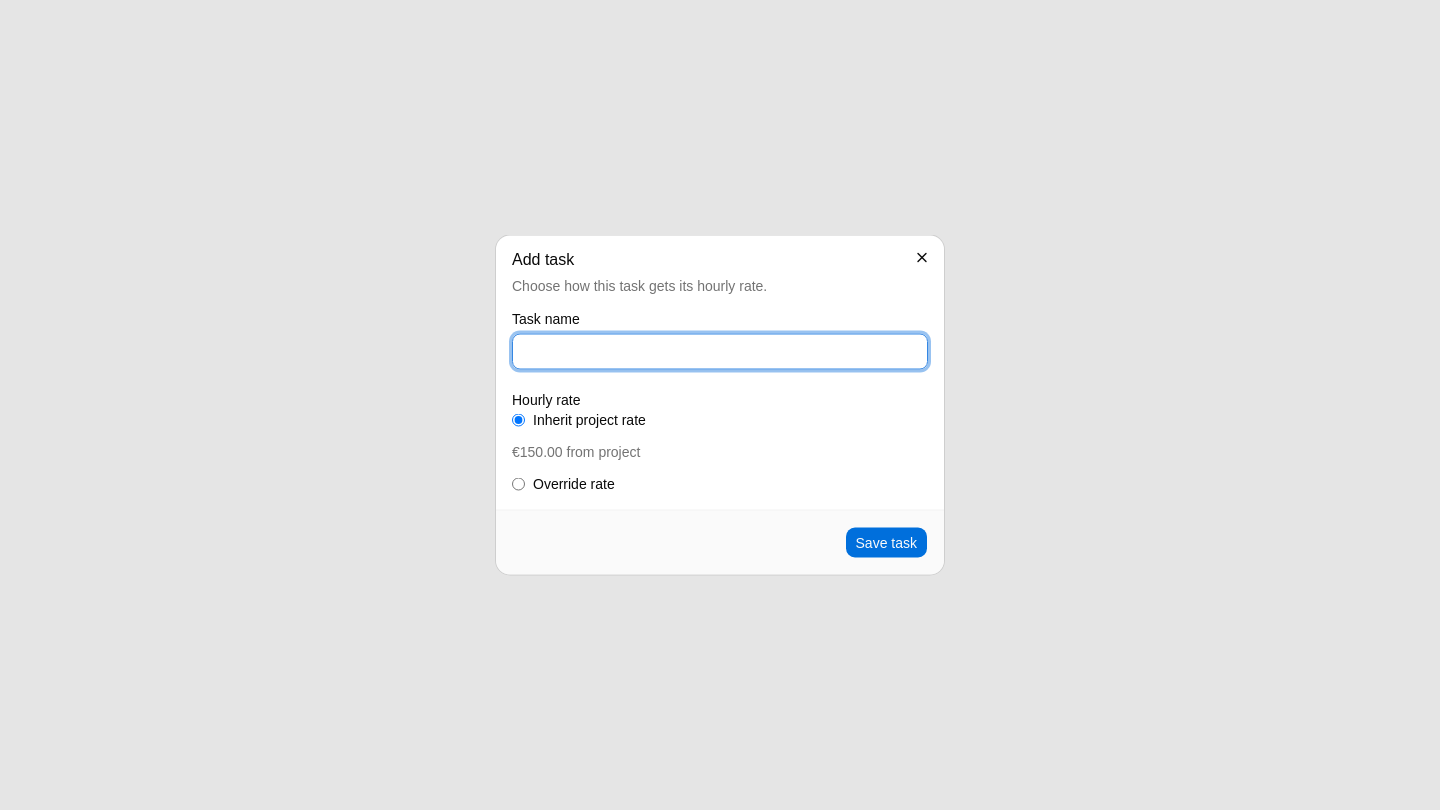
Test: preserves context when the override rate '-1' is invalid
Type "Research" into the field labelled "Task name" at {"x": 720, "y": 352}, box [512,334,928,370]
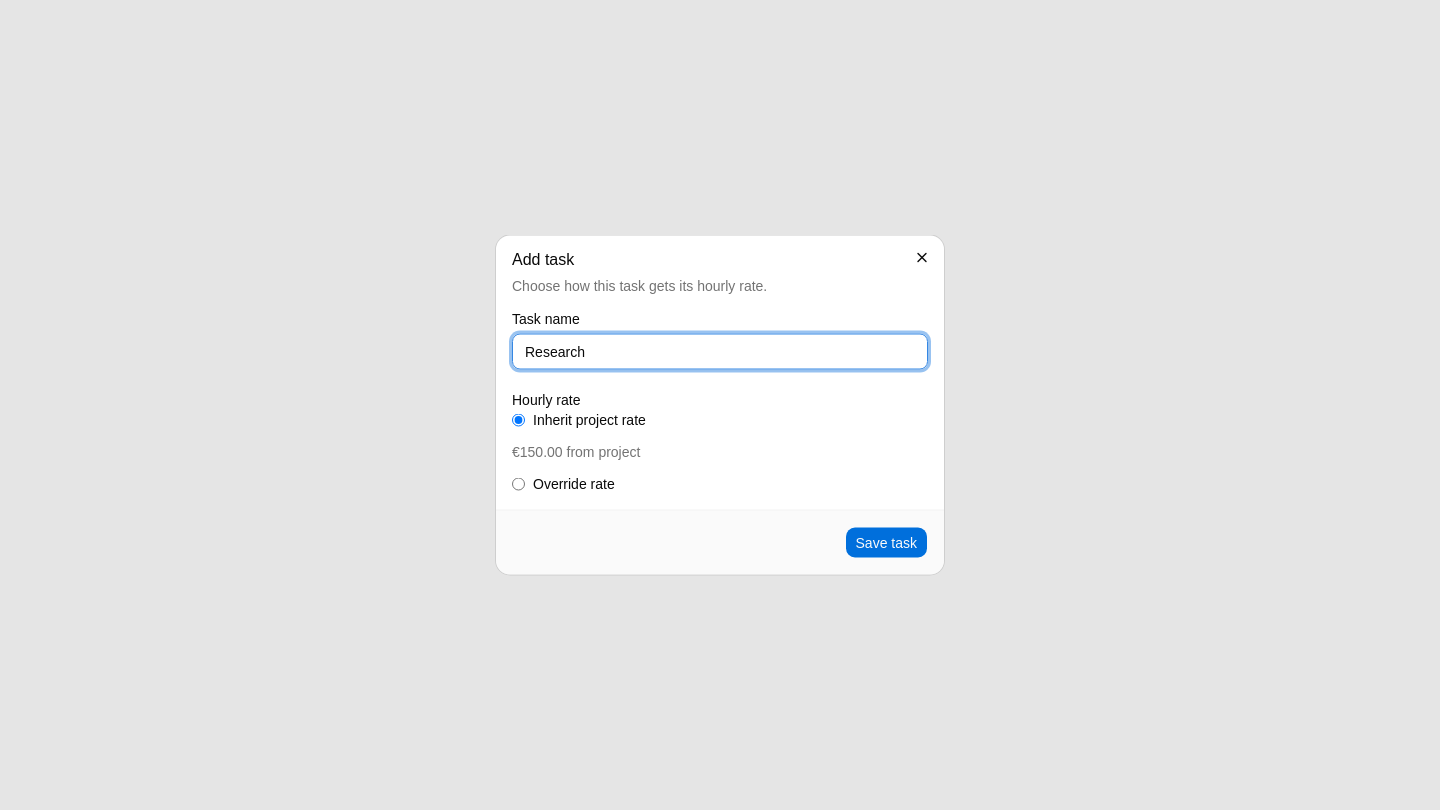
Click the radio button labelled "Override rate" at {"x": 518, "y": 484}, box [512,477,525,490]
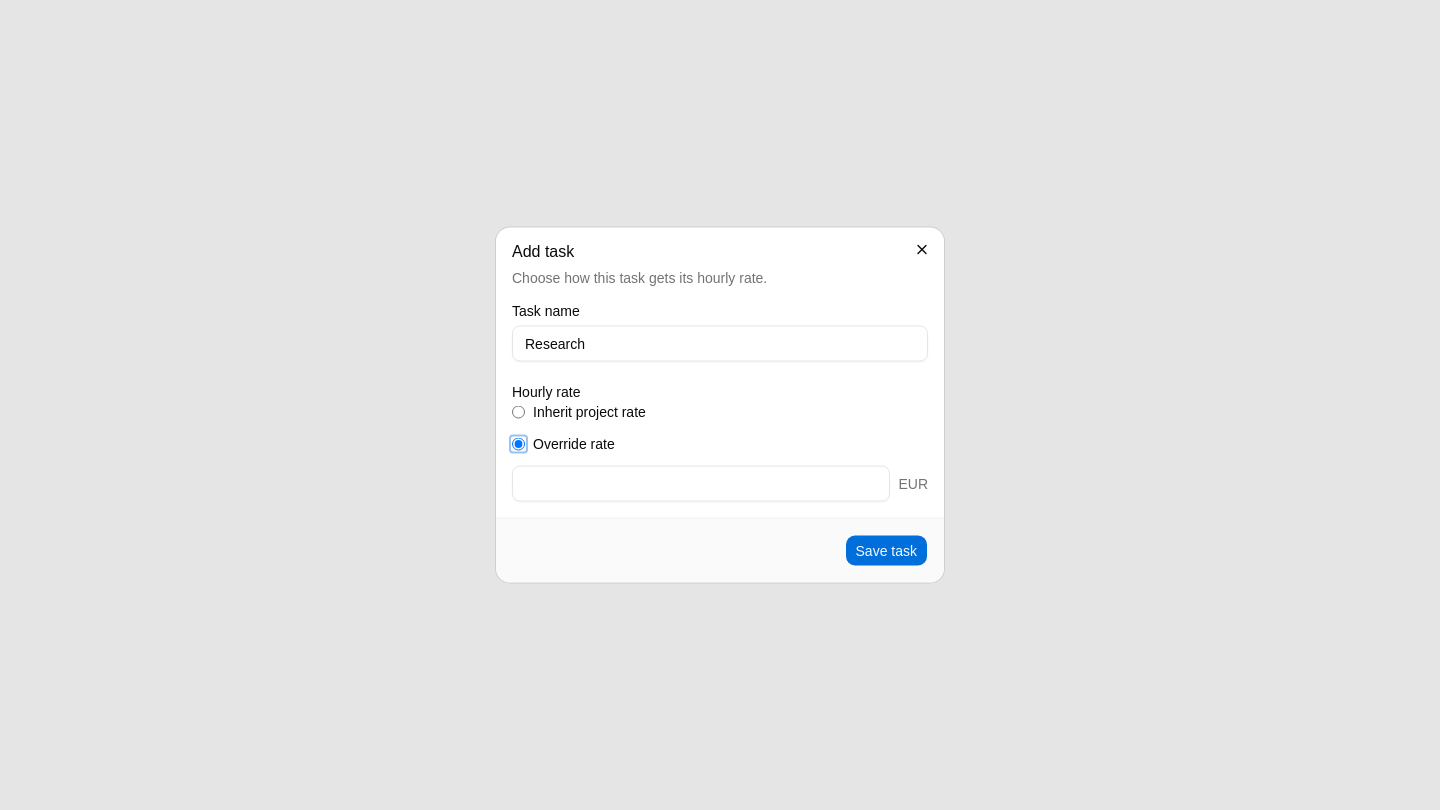
Type "-1" into the field named "Hourly rate" at {"x": 701, "y": 484}, box [512,466,890,502]
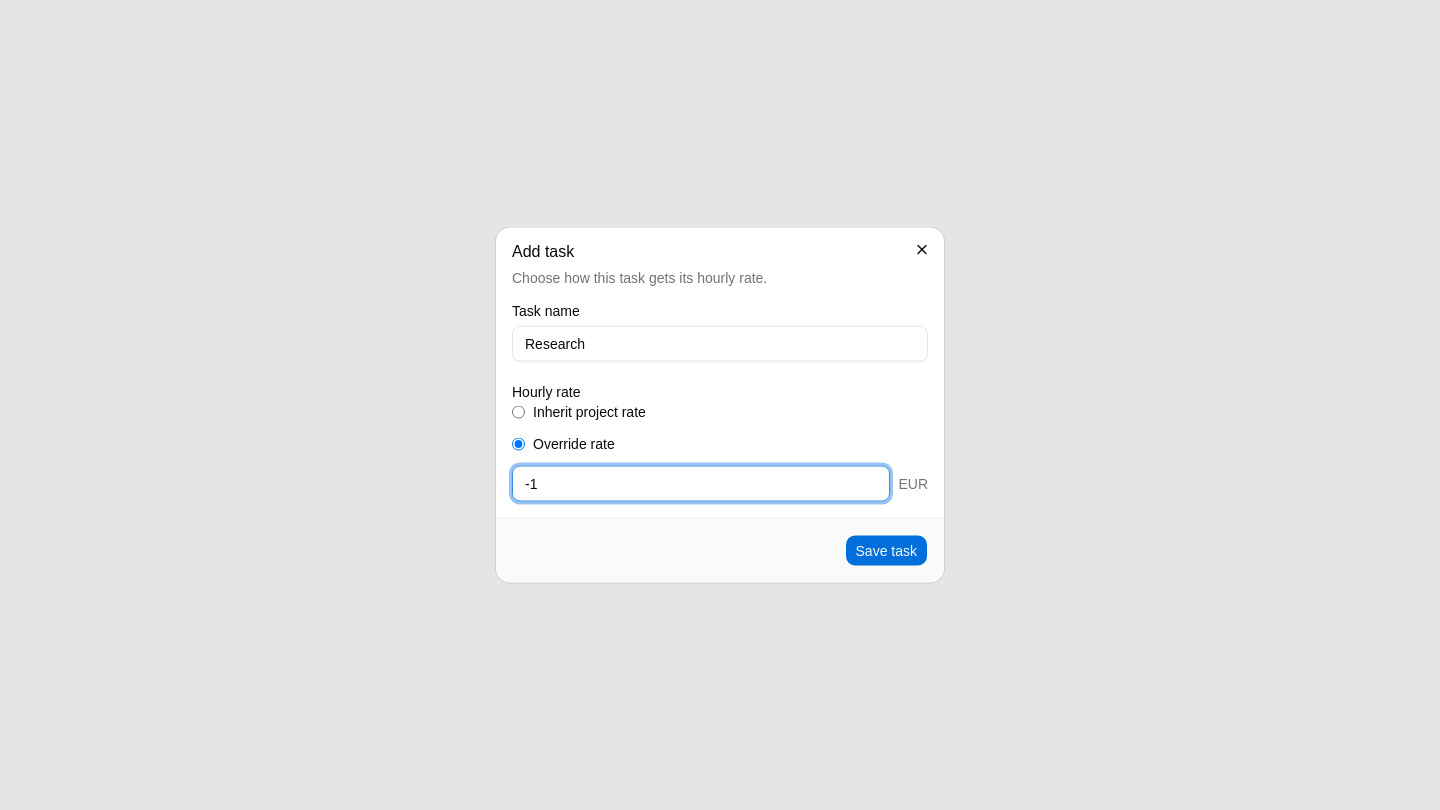
Click the button "Save task" at {"x": 886, "y": 550}, box [844,534,928,566]
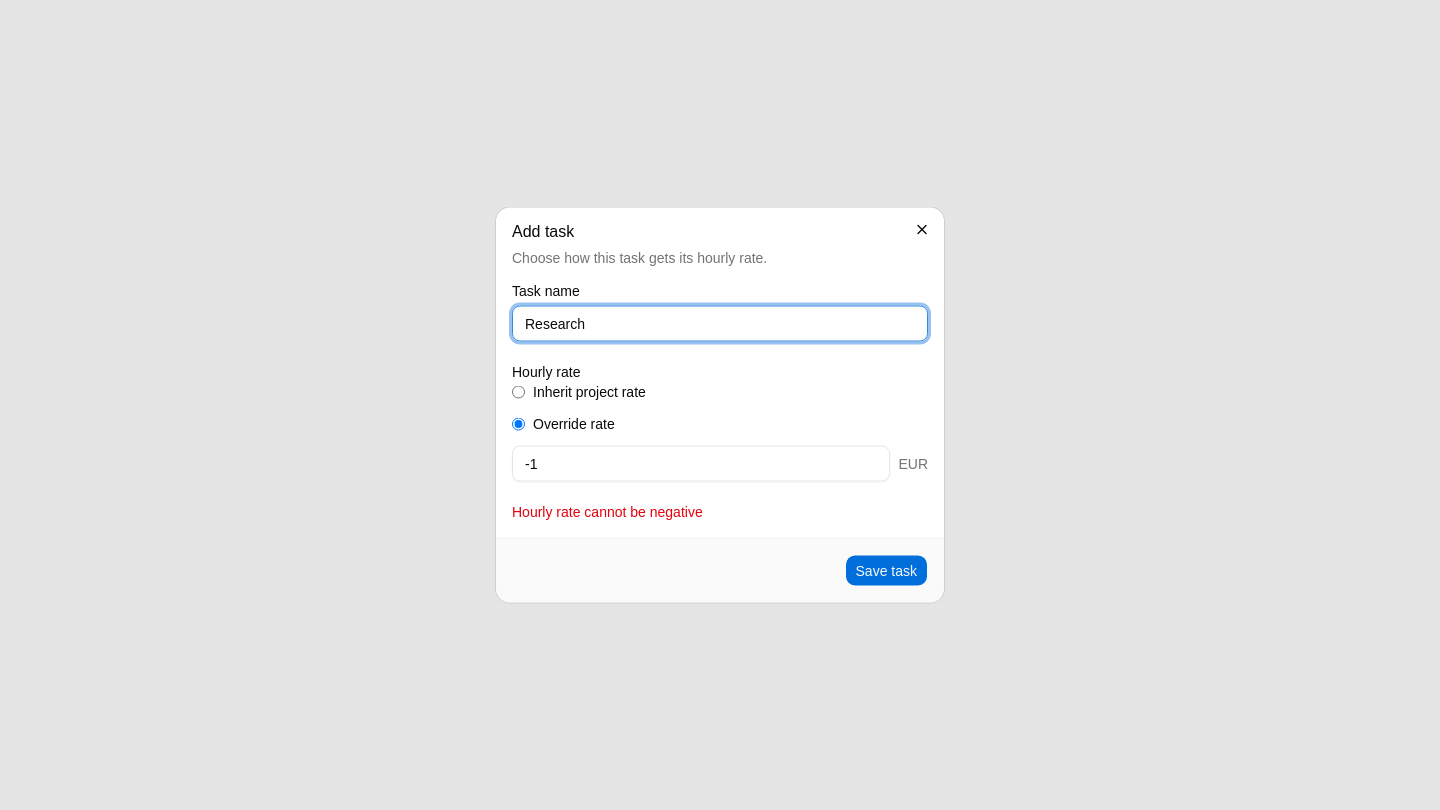
Expected: the dialog "Add task" is shown, [496,208,944,602]
Now the message shows "cannot be negative", box [512,504,703,520]
